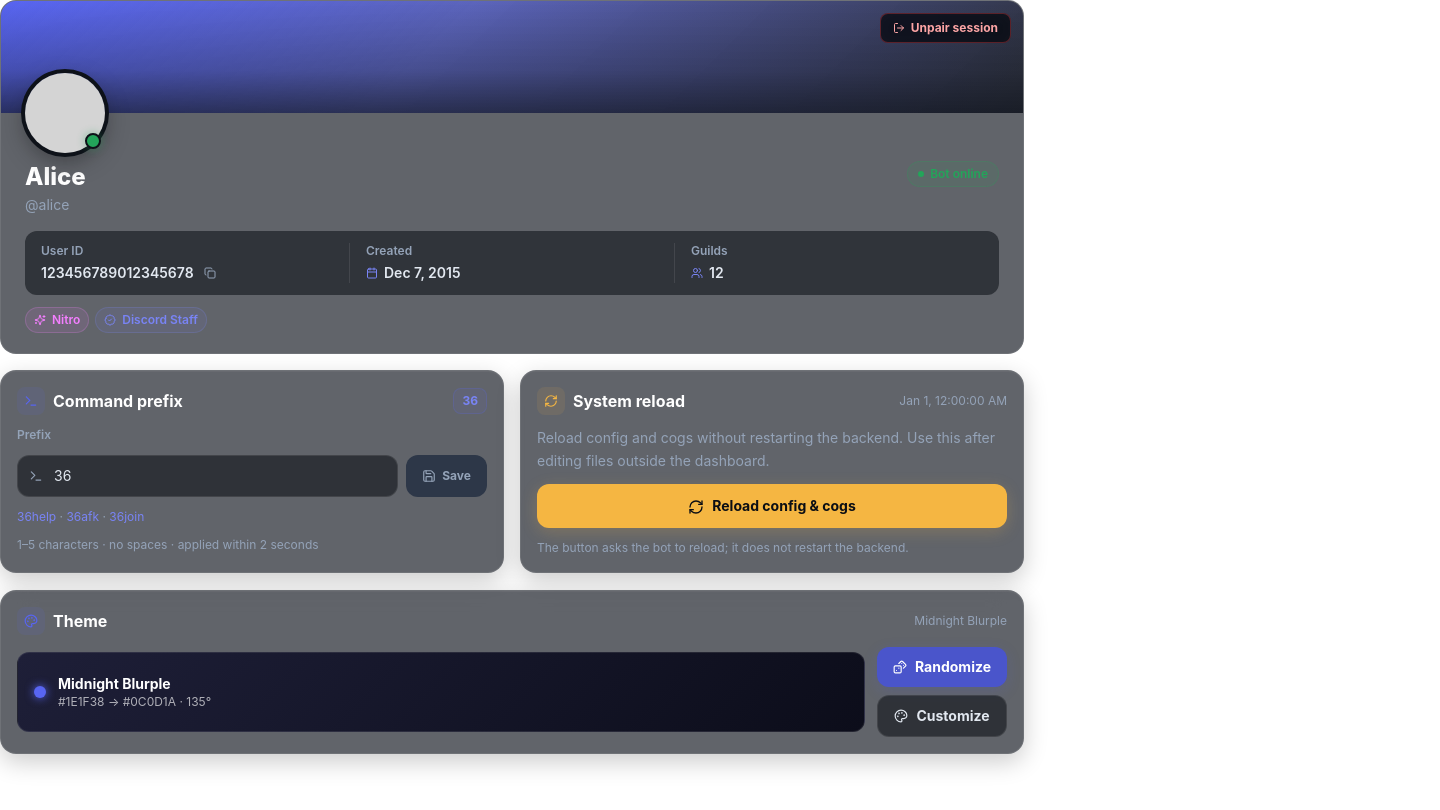
SettingsView › requests a reload and polls until the last reload changes
Expected: the heading "Alice" is shown, [25,161,86,193]
Click the button with aria-label "Reload config and cogs".
click(772, 506)  # box [537,484,1007,528]
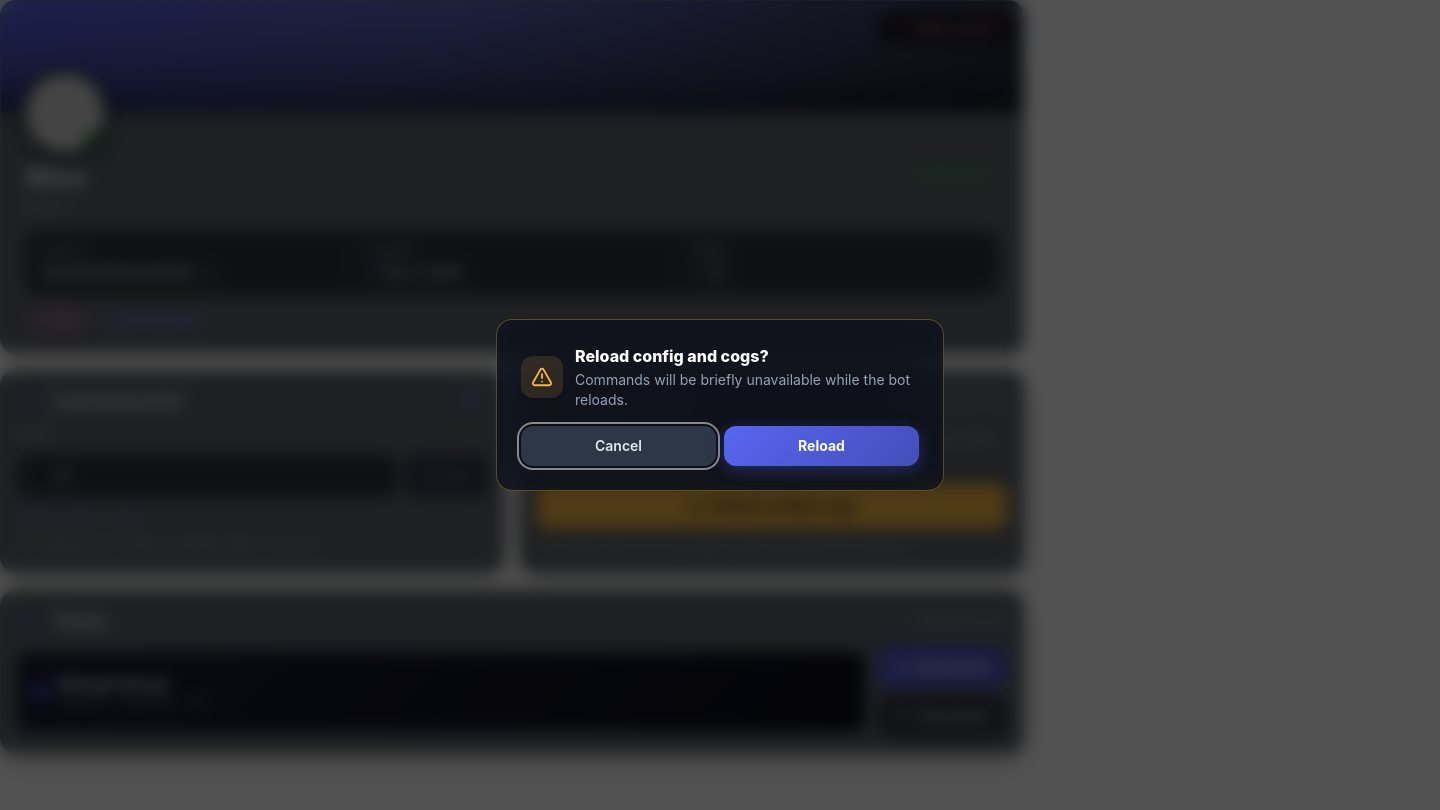
Click the button "Reload".
click(822, 446)  # box [724,426,919,466]
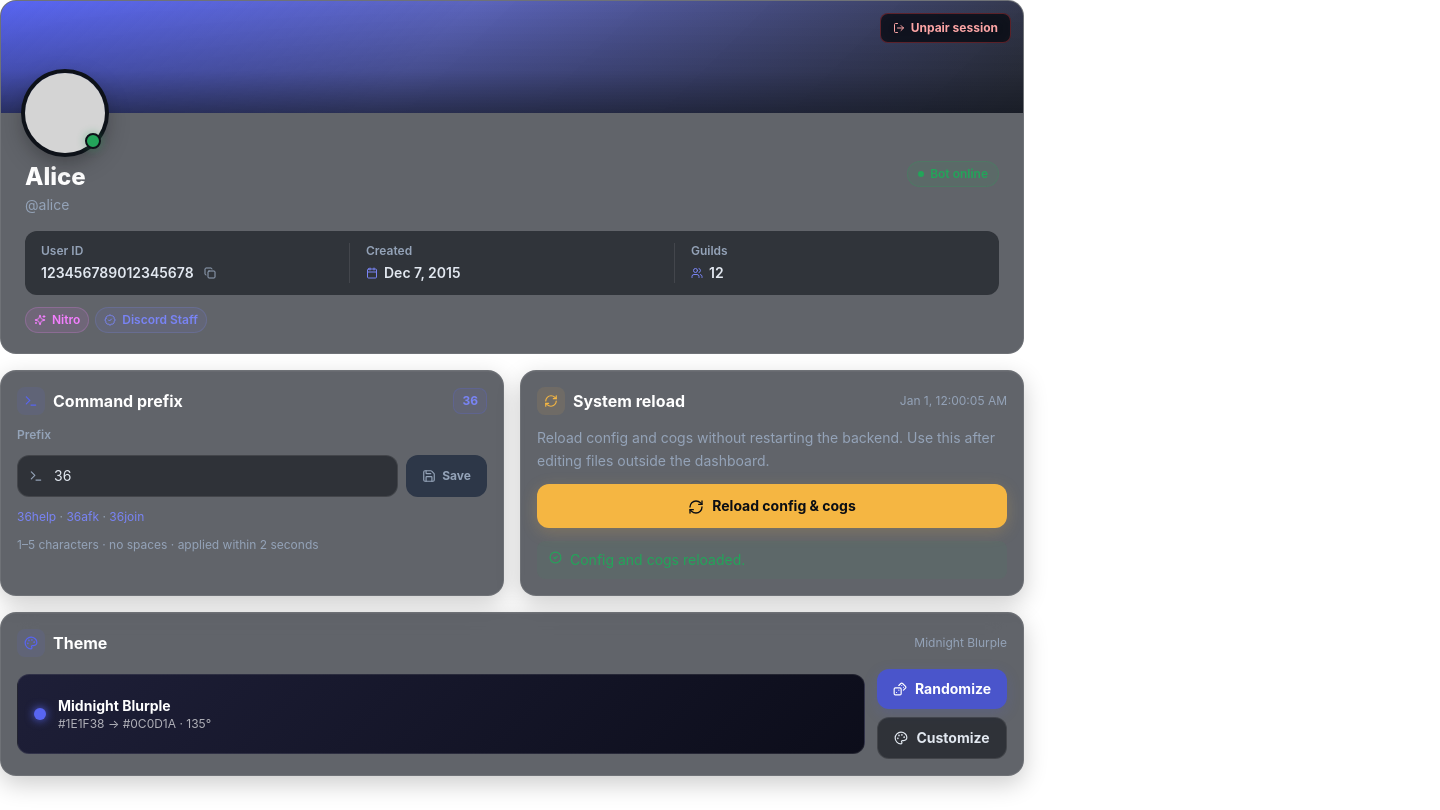
Expected: the text "Config and cogs reloaded." is shown, [570,548,745,571]
